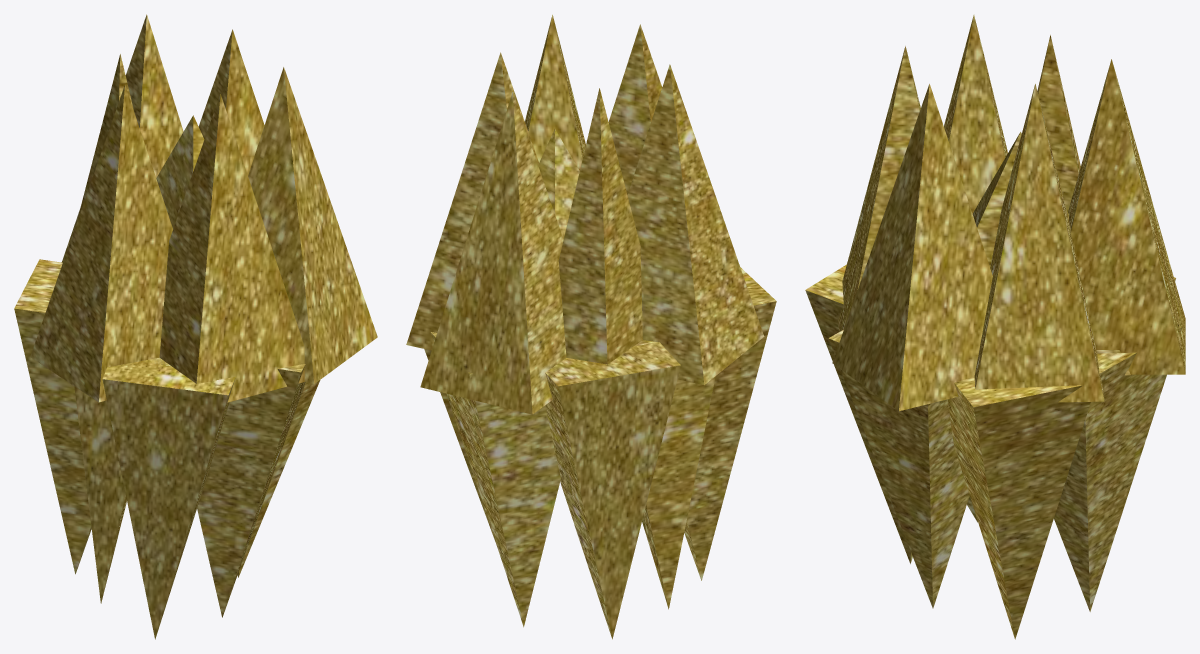
File: resource.fbx
3 views of the same model, side by side, from view 1: azimuth 30°, elevation 25°; view 2: azimuth 150°, elevation 25°; view 3: azimuth 270°, elevation 25° (orthographic). The views are drawn at different scales.
Visible parts, largest first — view 1: Pyramid003; view 2: Pyramid003; view 3: Pyramid003.
Boxes of the visible parts, x1,y1,x2,y2 form: Pyramid003: [14, 14, 377, 639]; Pyramid003: [406, 14, 776, 639]; Pyramid003: [805, 15, 1185, 639].
Size of the model in its own units: 17.76 by 31.25 by 19.28.
1 material, 1 textured.
